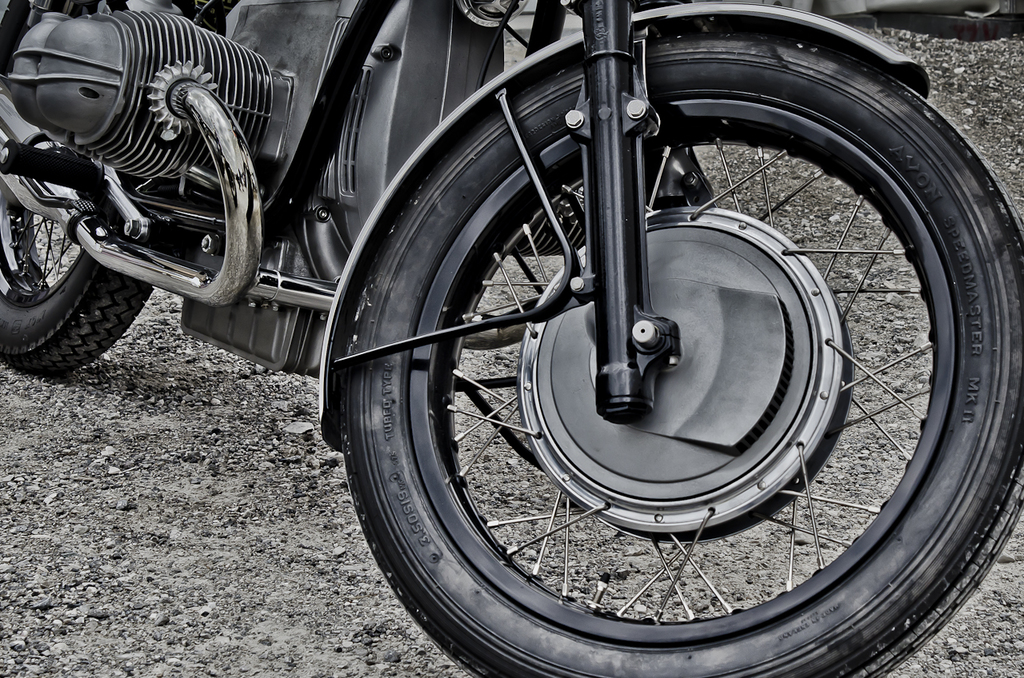Wheel: (334, 26, 1023, 677), (0, 0, 152, 372)
